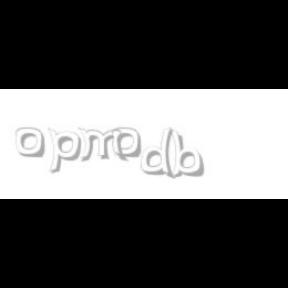b: (169, 128, 207, 178)
d: (142, 128, 179, 180)
m: (77, 128, 129, 162)
o: (16, 128, 44, 158), (112, 128, 140, 158)
p: (48, 128, 84, 174)
